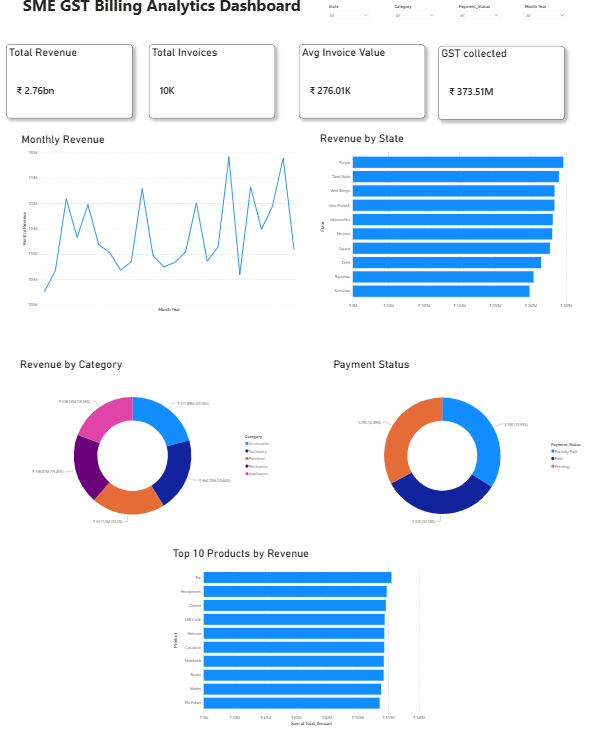

This screenshot's page, from the dashboard's own definition file:
{"tool":"powerbi","page":{"name":"Executive Overview","canvas":[2000,2500],"ordinal":0},"visuals":[{"type":"cardVisual","title":"Total Revenue","fields":{"Data":["Sum(gst_billing_dataset.Total_Amount)"]},"box":[24,176,420,245],"z":0},{"type":"textbox","box":[0,0,1085,150],"z":1000},{"type":"cardVisual","title":"Total Invoices","fields":{"Data":["gst_billing_dataset.Total Invoices"]},"box":[502,176,420,245],"z":2000},{"type":"cardVisual","title":"Avg Invoice Value","fields":{"Data":["gst_billing_dataset.Average Invoice Value"]},"box":[1000,176,420,245],"z":3000},{"type":"cardVisual","title":" GST collected","fields":{"Data":["gst_billing_dataset.Total GST Collected"]},"box":[1466,178,420,245],"z":4000},{"type":"lineChart","title":"Monthly Revenue ","fields":{"Y":["gst_billing_dataset.Monthly Revenue"],"Category":["gst_billing_dataset.Month Year"]},"box":[66.7,466.7,850,600],"z":5000},{"type":"clusteredBarChart","title":"Revenue by State","fields":{"Category":["gst_billing_dataset.State"],"Y":["Sum(gst_billing_dataset.Total_Amount)"]},"box":[1066.7,466.7,850,600],"z":6000},{"type":"donutChart","title":"Revenue by Category","fields":{"Category":["gst_billing_dataset.Category"],"Y":["Sum(gst_billing_dataset.Total_Amount)"]},"box":[66.7,1220,850,600],"z":7000},{"type":"clusteredBarChart","title":"Top 10 Products by Revenue","fields":{"Category":["gst_billing_dataset.Product"],"Y":["Sum(gst_billing_dataset.Total_Amount)"]},"box":[575,1850,850,600],"z":8000},{"type":"donutChart","title":"Payment Status","fields":{"Category":["gst_billing_dataset.Payment_Status"],"Y":["CountNonNull(gst_billing_dataset.Invoice_ID)"]},"box":[1110,1220,850,600],"z":9000},{"type":"slicer","fields":{"Values":["gst_billing_dataset.State"]},"box":[1085,36.7,160,65],"z":10000},{"type":"slicer","fields":{"Values":["gst_billing_dataset.Category"]},"box":[1303.3,36.7,160,65],"z":11000},{"type":"slicer","fields":{"Values":["gst_billing_dataset.Payment_Status"]},"box":[1521.7,36.7,160,65],"z":12000},{"type":"slicer","fields":{"Values":["gst_billing_dataset.Month Year"]},"box":[1740,36.7,160,65],"z":13000}]}

Visuals, with their boxes in screenshot pixels (x1, y1, x2, y2), scaled from the page's 2000x2500 canvas onto the 594x742 screenshot:
"Total Revenue" cardVisual: (7,52,132,125)
textbox: (0,0,322,45)
"Total Invoices" cardVisual: (149,52,274,125)
"Avg Invoice Value" cardVisual: (297,52,422,125)
" GST collected" cardVisual: (435,53,560,126)
"Monthly Revenue " lineChart: (20,139,272,317)
"Revenue by State" clusteredBarChart: (317,139,569,317)
"Revenue by Category" donutChart: (20,362,272,540)
"Top 10 Products by Revenue" clusteredBarChart: (171,549,423,727)
"Payment Status" donutChart: (330,362,582,540)
slicer - gst_billing_dataset.State: (322,11,370,30)
slicer - gst_billing_dataset.Category: (387,11,435,30)
slicer - gst_billing_dataset.Payment_Status: (452,11,499,30)
slicer - gst_billing_dataset.Month Year: (517,11,564,30)
